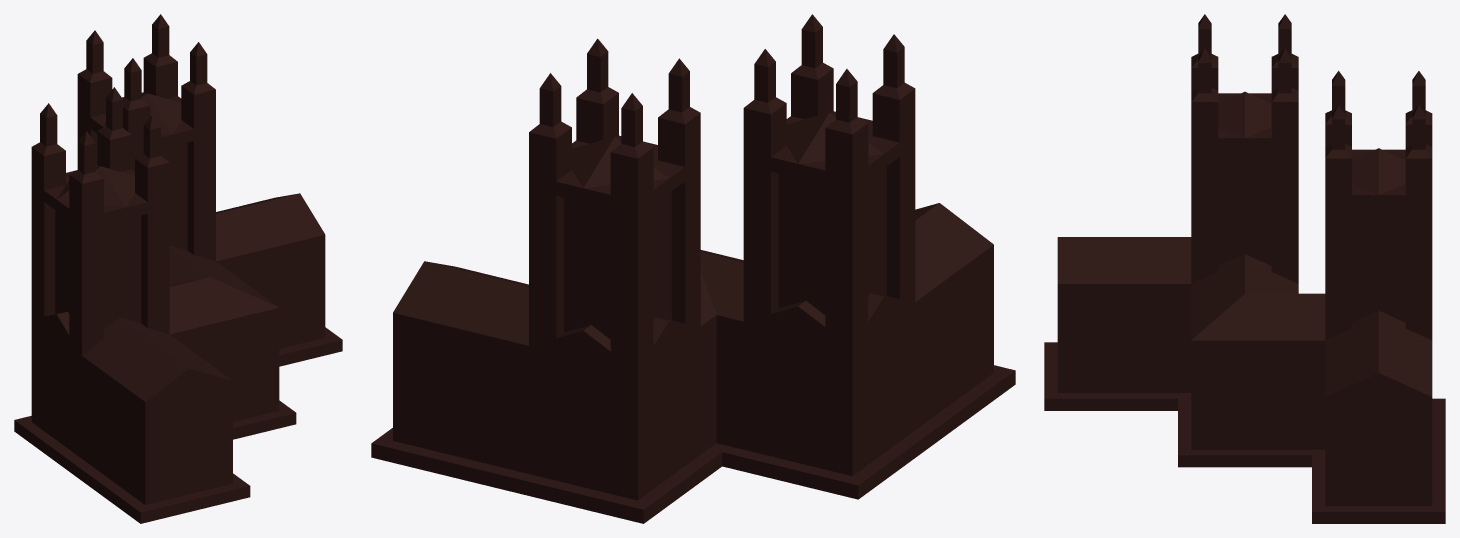
File: Tower.glb
3 renders of one model, left to right at view 1: azimuth 30°, elevation 25°; view 2: azimuth 150°, elevation 25°; view 3: azimuth 270°, elevation 25°, orthographic. The views are drawn at different scales.
Visible parts, largest first — view 1: 5Tower; view 2: 5Tower; view 3: 5Tower.
Part boxes in pixels (box(x1,y1,x2,y2)): 5Tower: box(14, 14, 342, 523); 5Tower: box(371, 14, 1015, 523); 5Tower: box(1044, 14, 1445, 523).
Bounding box in the file's own units: 3 × 2.9 × 3.
